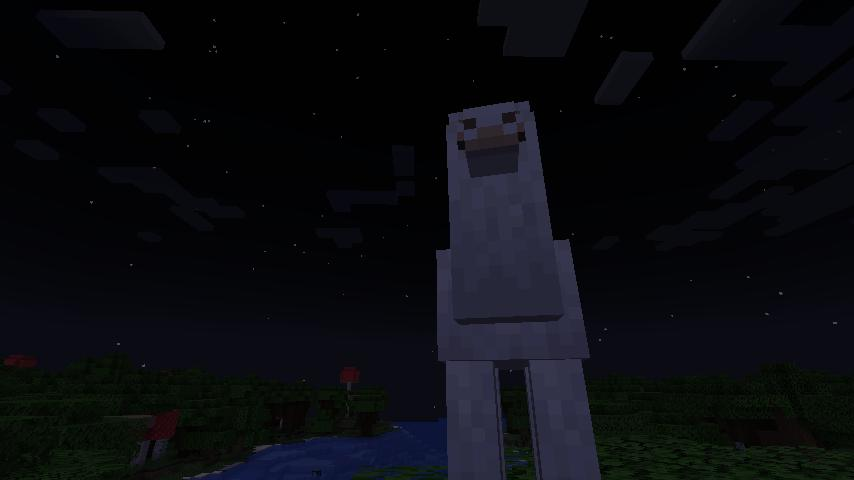llama: (429, 91, 607, 480)
